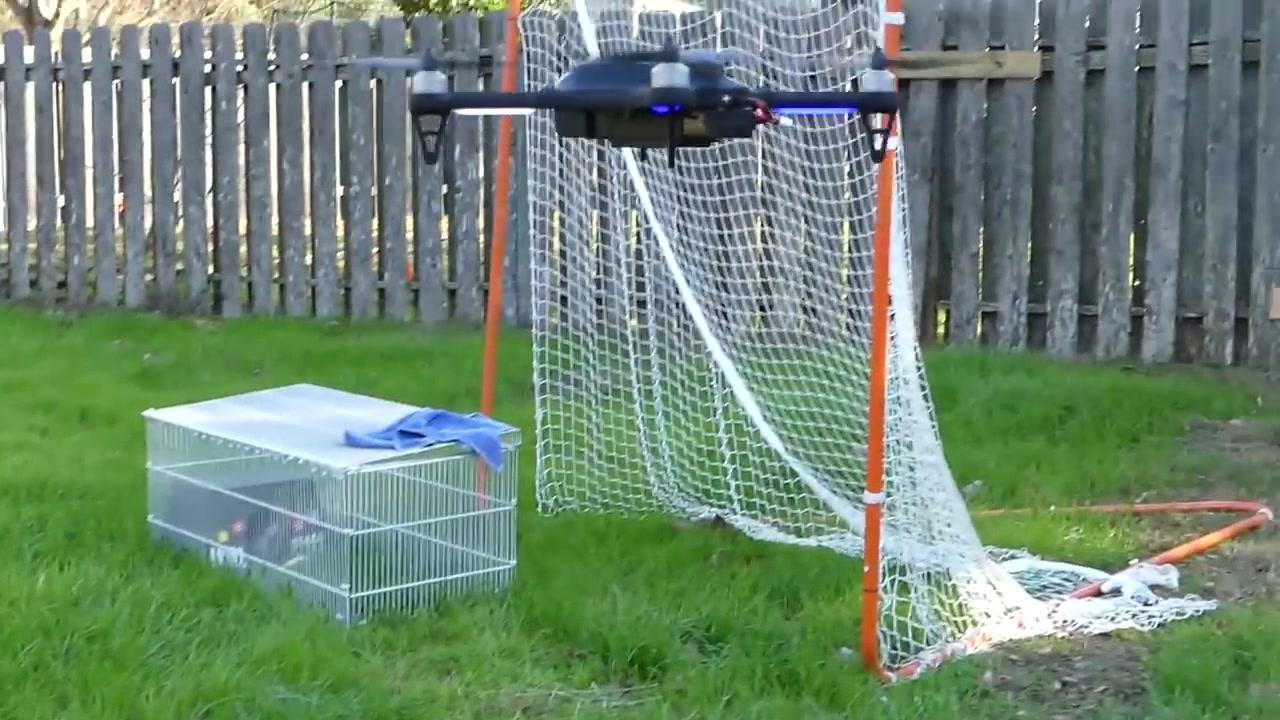UAV: (336, 35, 993, 174)
